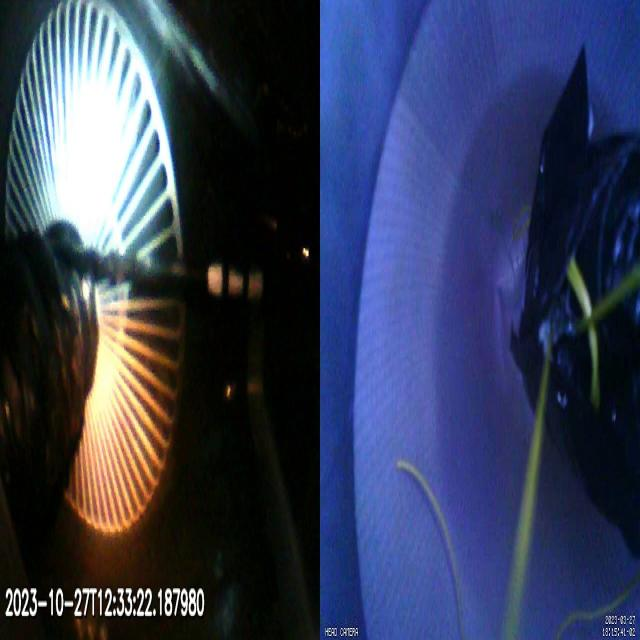white-dots: (206, 262, 264, 303)
